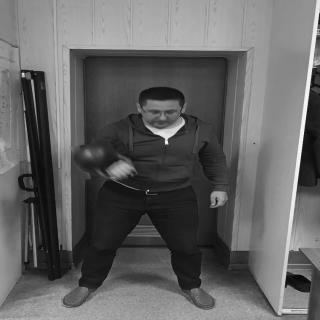kettlebell: (73, 143, 135, 180)
